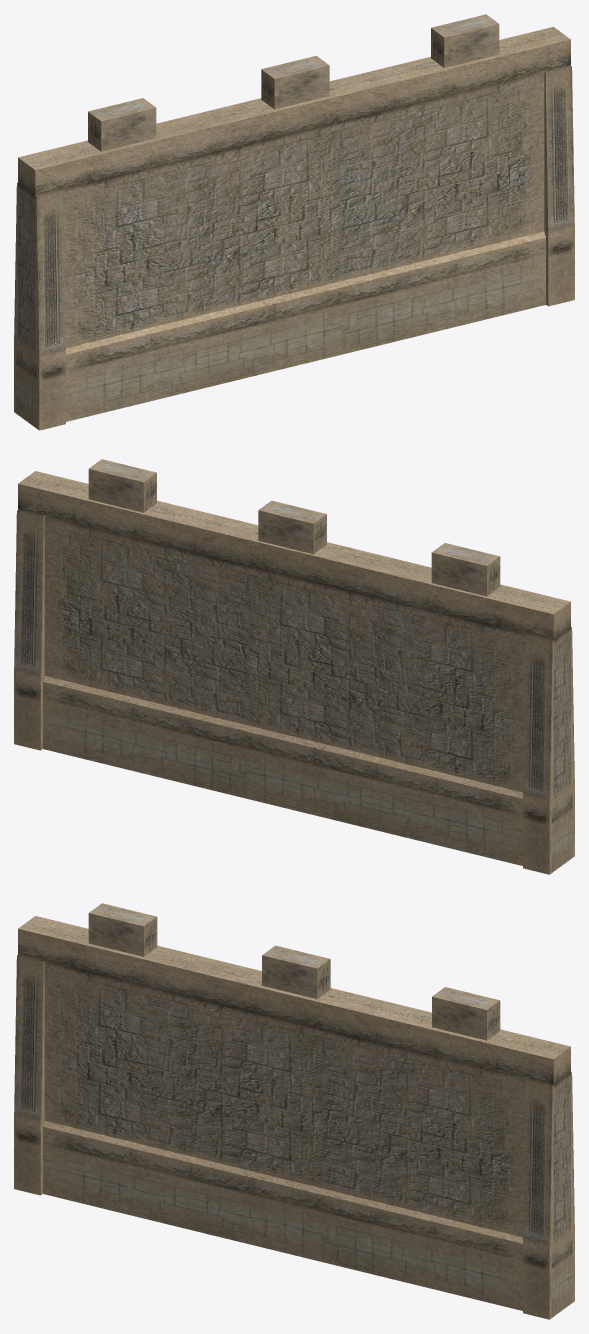
The model's file is desert-bigdam-02.glb.
The picture shows the model from 3 angles, top to bottom: view 1: azimuth 30°, elevation 25°; view 2: azimuth 150°, elevation 25°; view 3: azimuth 330°, elevation 25°; orthographic projection.
Visible parts, largest first — view 1: desert-bigdam-01; view 2: desert-bigdam-01; view 3: desert-bigdam-01.
Part boxes in pixels (x1,y1,x2,y2): desert-bigdam-01: (14,14,574,430); desert-bigdam-01: (14,459,574,874); desert-bigdam-01: (14,903,574,1319).
Size of the model in its own units: 10.01 by 5.14 by 0.8224.
1 material, 1 textured.
